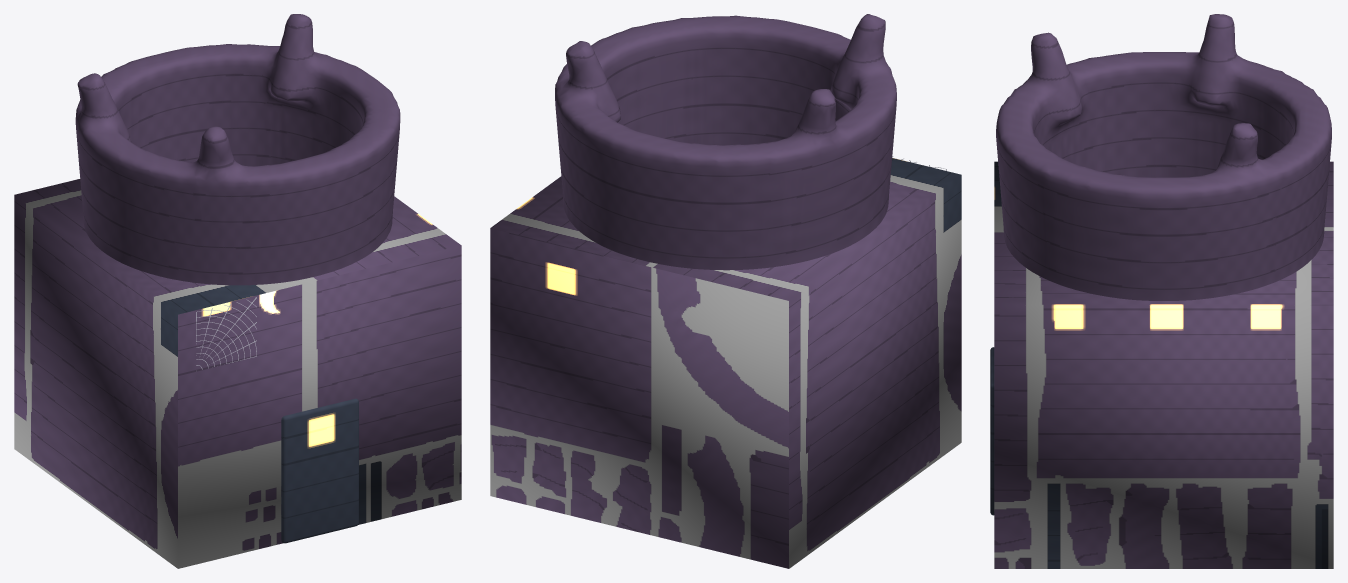
Rendered from house_starry.glb.
3 renders of one model, left to right at view 1: azimuth 30°, elevation 25°; view 2: azimuth 150°, elevation 25°; view 3: azimuth 270°, elevation 25°, orthographic. The views are drawn at different scales.
Visible parts, largest first — view 1: col, lod0, door, cobweb; view 2: col, lod0; view 3: col, lod0, door.
Boxes of the visible parts, x1,y1,x2,y2 form: col: (14,179,461,568); lod0: (75,14,400,285); door: (281,398,358,543); cobweb: (196,297,256,369); col: (490,158,961,568); lod0: (555,14,896,270); col: (994,161,1333,568); lod0: (996,14,1331,300); door: (990,347,994,515).
Size of what is drawn, in the model's own units: 7 by 9.61 by 7.09.
Materials: 2 (2 with a texture image).
